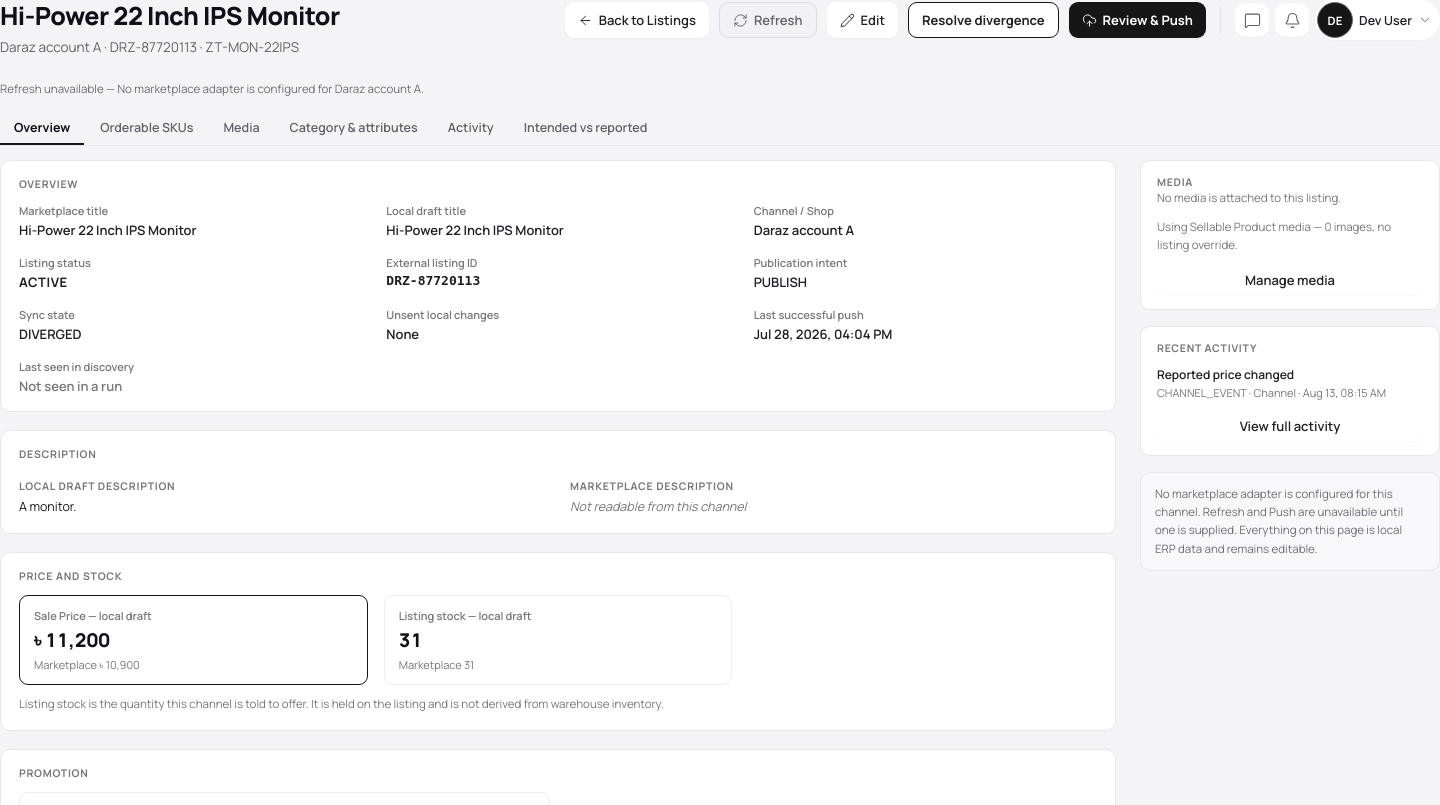
Test: Frame 06 — Listing Detail › summarises the diverged facts and marks the section as an exception
The width and height of the screenshot is (1440, 805).
Expected: the tab with test id "detail-tab-overview" is shown, x1=0 y1=110 x2=84 y2=145
Click the tab with test id "detail-tab-comparison".
click(586, 128)  # box x1=510 y1=110 x2=662 y2=145
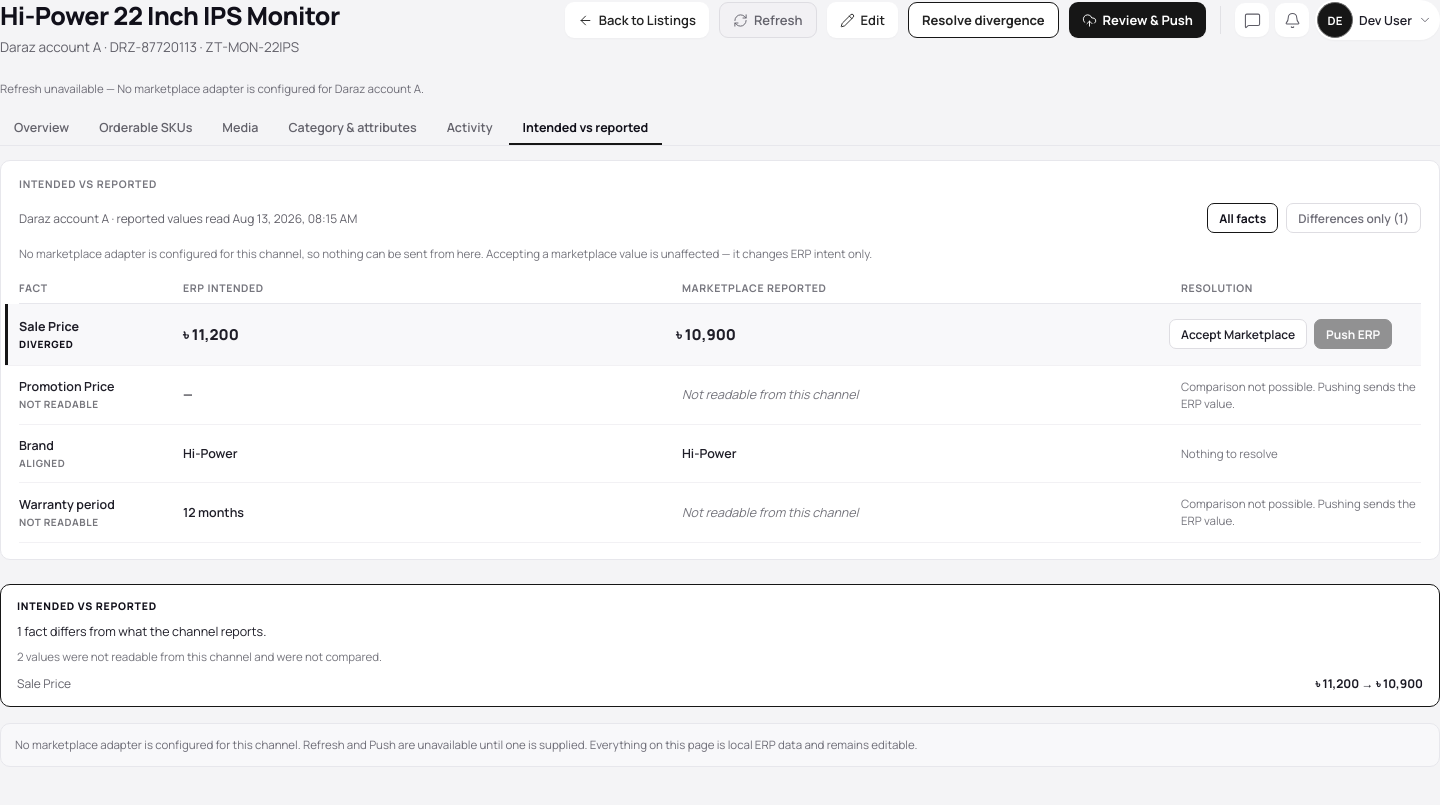
Expected: the button with test id "detail-resolve" is shown, x1=908 y1=2 x2=1058 y2=38
Expected: the element with test id "detail-diverged-facts" is shown, x1=17 y1=675 x2=1423 y2=692
